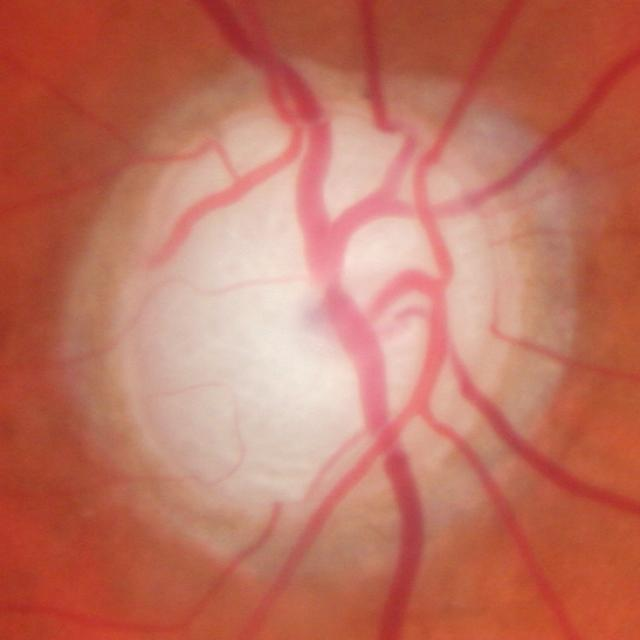OC: (123, 113, 486, 496)
OD: (60, 58, 582, 592)
